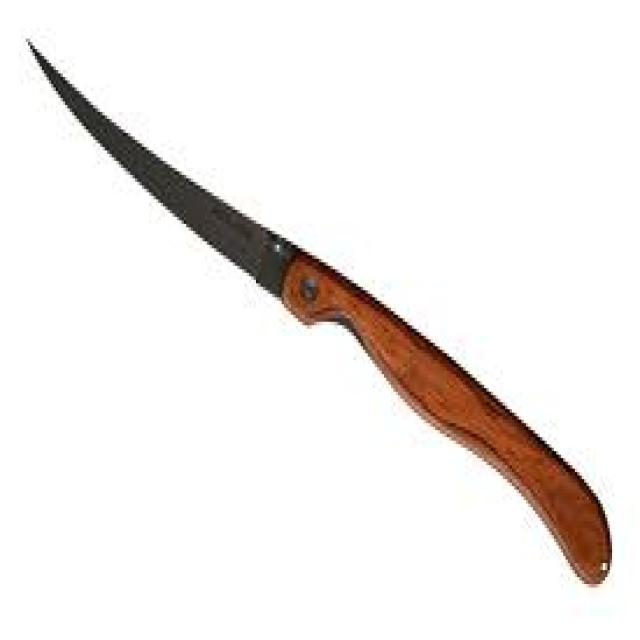knife: (26, 36, 611, 589)
